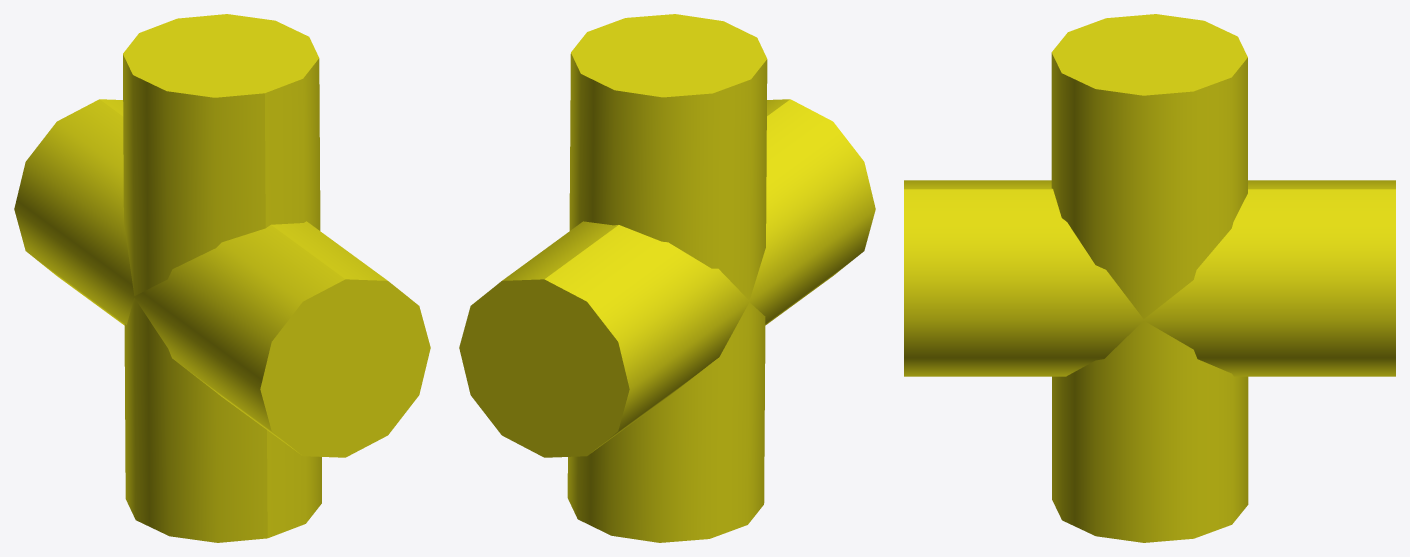
The model's file is Pipe1X.fbx.
3 views of the same model, side by side, from view 1: azimuth 30°, elevation 25°; view 2: azimuth 150°, elevation 25°; view 3: azimuth 270°, elevation 25° (orthographic).
Visible parts, largest first — view 1: Pipe1X; view 2: Pipe1X; view 3: Pipe1X.
Part boxes in pixels (<box>): Pipe1X: <box>14,14,430,542</box>; Pipe1X: <box>459,14,875,542</box>; Pipe1X: <box>904,14,1395,542</box>.
Size of the model in its own units: 40.62 by 100 by 100.
